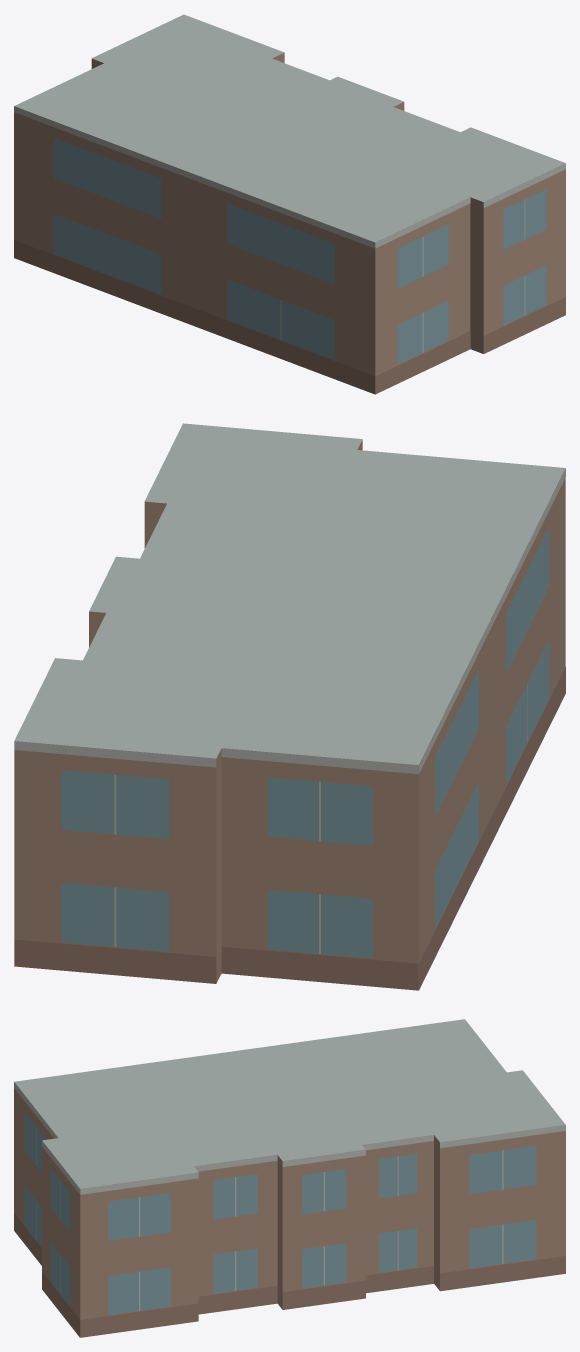
The model's file is survey-upis-32823261.glb.
The picture shows the model from 3 angles, top to bottom: view 1: azimuth 30°, elevation 25°; view 2: azimuth 150°, elevation 25°; view 3: azimuth 270°, elevation 25°; orthographic projection. The views are drawn at different scales.
Visible parts, largest first — view 1: survey-upis-32823261.tmp; view 2: survey-upis-32823261.tmp; view 3: survey-upis-32823261.tmp.
Part boxes in pixels (<box>): survey-upis-32823261.tmp: <box>14,14,565,394</box>; survey-upis-32823261.tmp: <box>14,423,565,990</box>; survey-upis-32823261.tmp: <box>14,1019,565,1337</box>.
Size of the model in its own units: 14.94 by 6.1 by 20.5.
